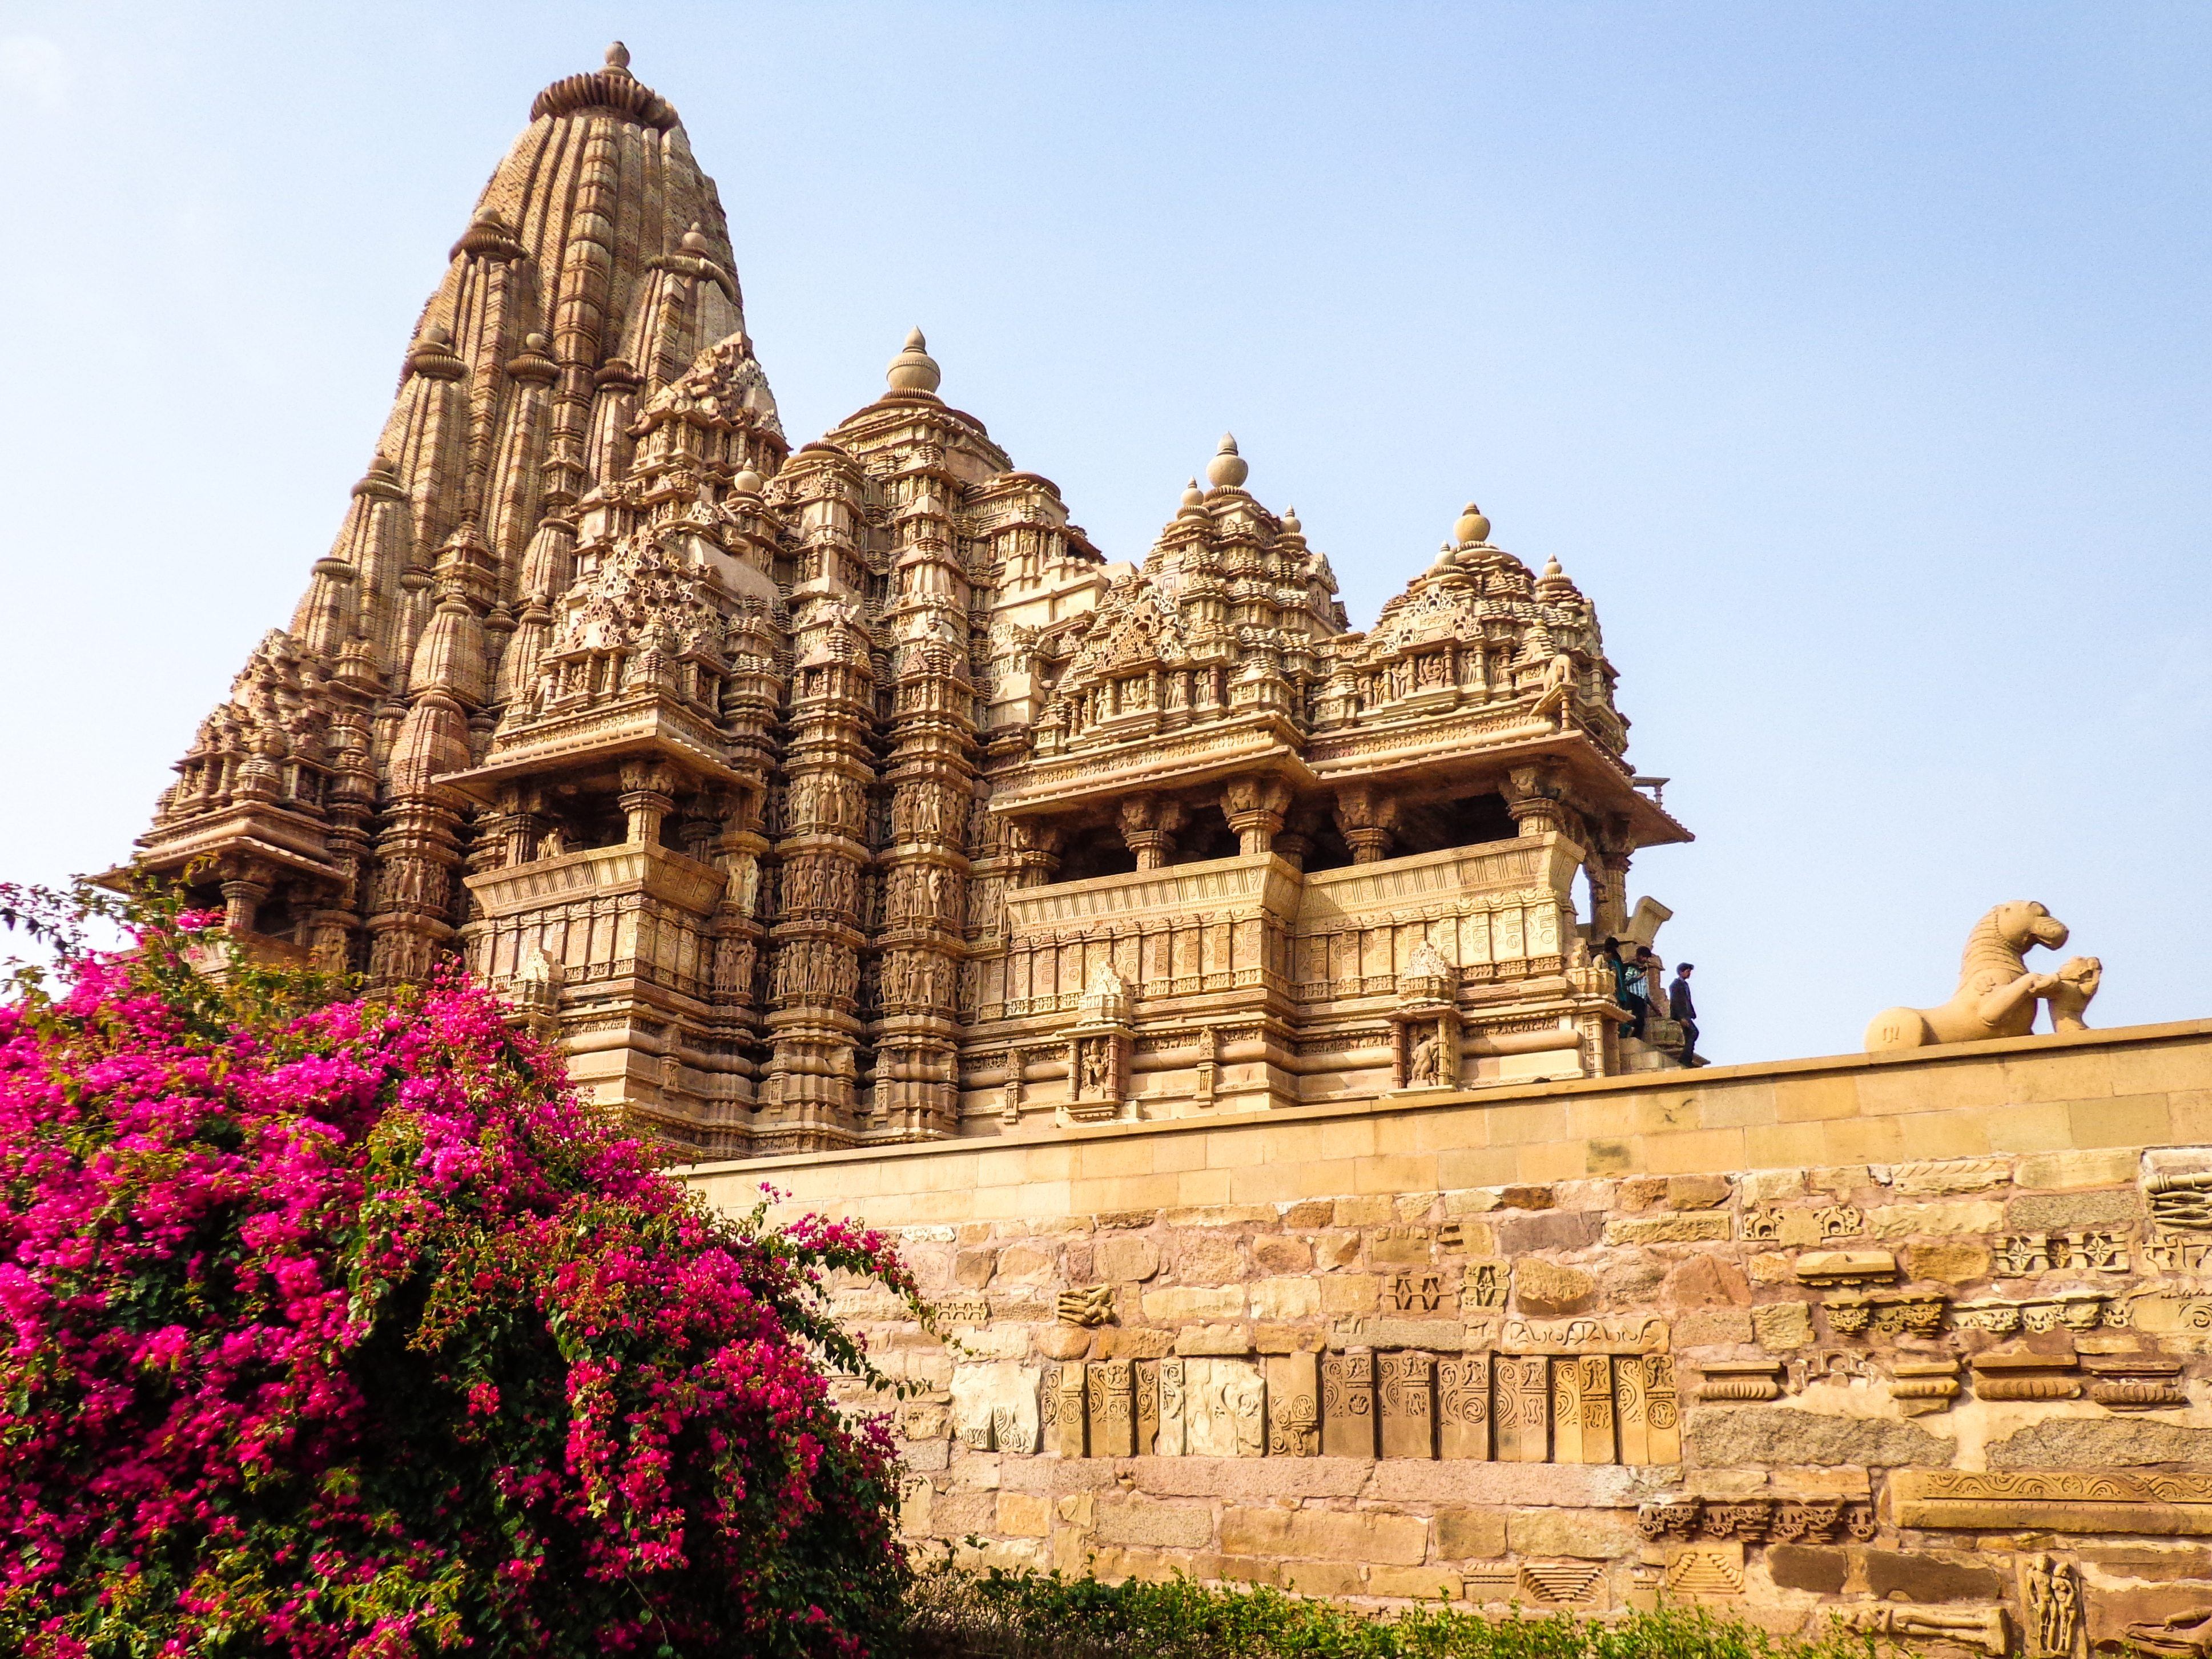Hindu Temple: (249, 30, 1672, 1100)
